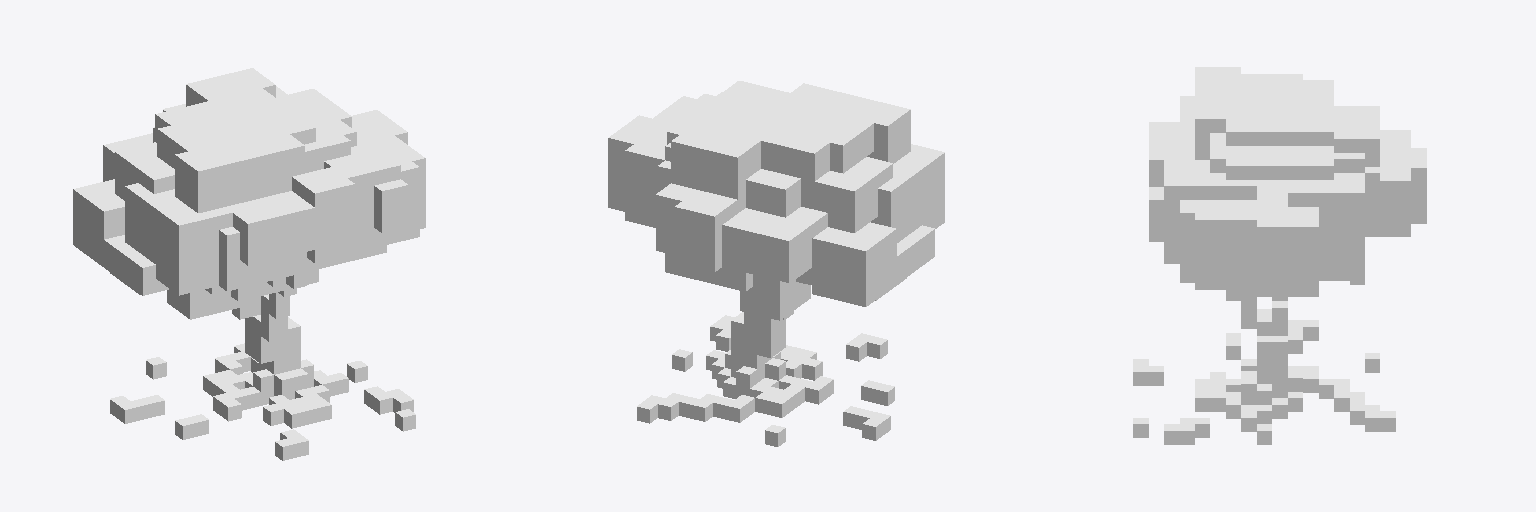
The model's file is NeutralArt2.obj.
3 renders of one model, left to right at view 1: azimuth 30°, elevation 25°; view 2: azimuth 150°, elevation 25°; view 3: azimuth 270°, elevation 25°, orthographic.
Parts seen in each view (by area): view 1: object 1; view 2: object 1; view 3: object 1.
Part boxes in pixels (x1,y1,x2,y2): object 1: (73,68,425,460); object 1: (608,81,944,446); object 1: (1133,67,1426,444).
Size of the model in its own units: 2.1 by 2 by 1.9.